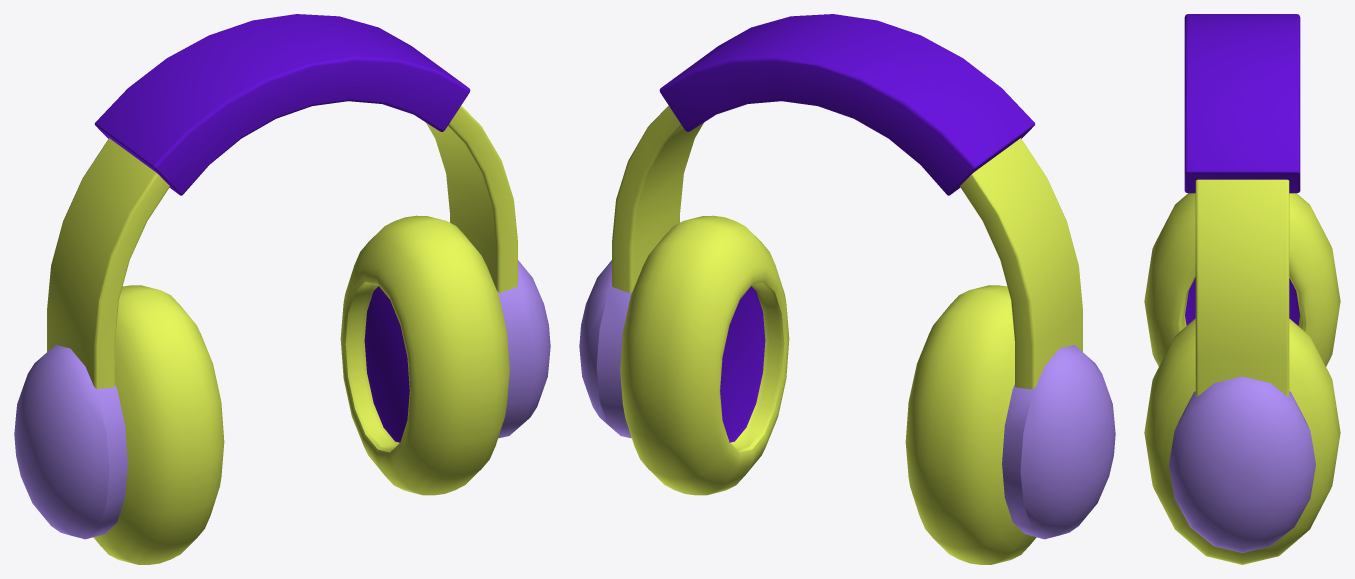
File: Earphones.fbx
3 renders of one model, left to right at view 1: azimuth 30°, elevation 25°; view 2: azimuth 150°, elevation 25°; view 3: azimuth 270°, elevation 25°, orthographic. The views are drawn at different scales.
Parts seen in each view (by area): view 1: Earphones; view 2: Earphones; view 3: Earphones.
Part boxes in pixels (<box>): Earphones: <box>14,14,550,564</box>; Earphones: <box>579,14,1115,564</box>; Earphones: <box>1144,14,1340,564</box>.
Bounding box in the file's own units: 20.96 × 19 × 7.42.
